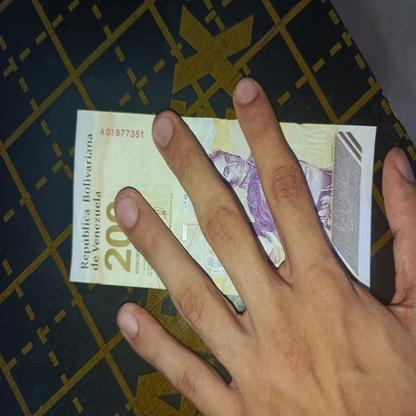two_hundred-front-vef: (68, 108, 378, 293)
